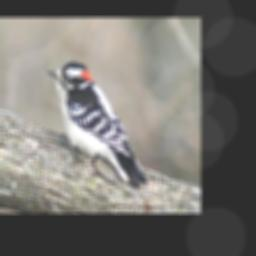Woodpecker: (47, 61, 150, 187)
